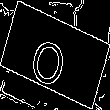O_N: (33, 23, 77, 87)
